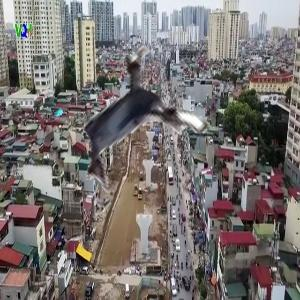drone: (48, 43, 221, 216)
